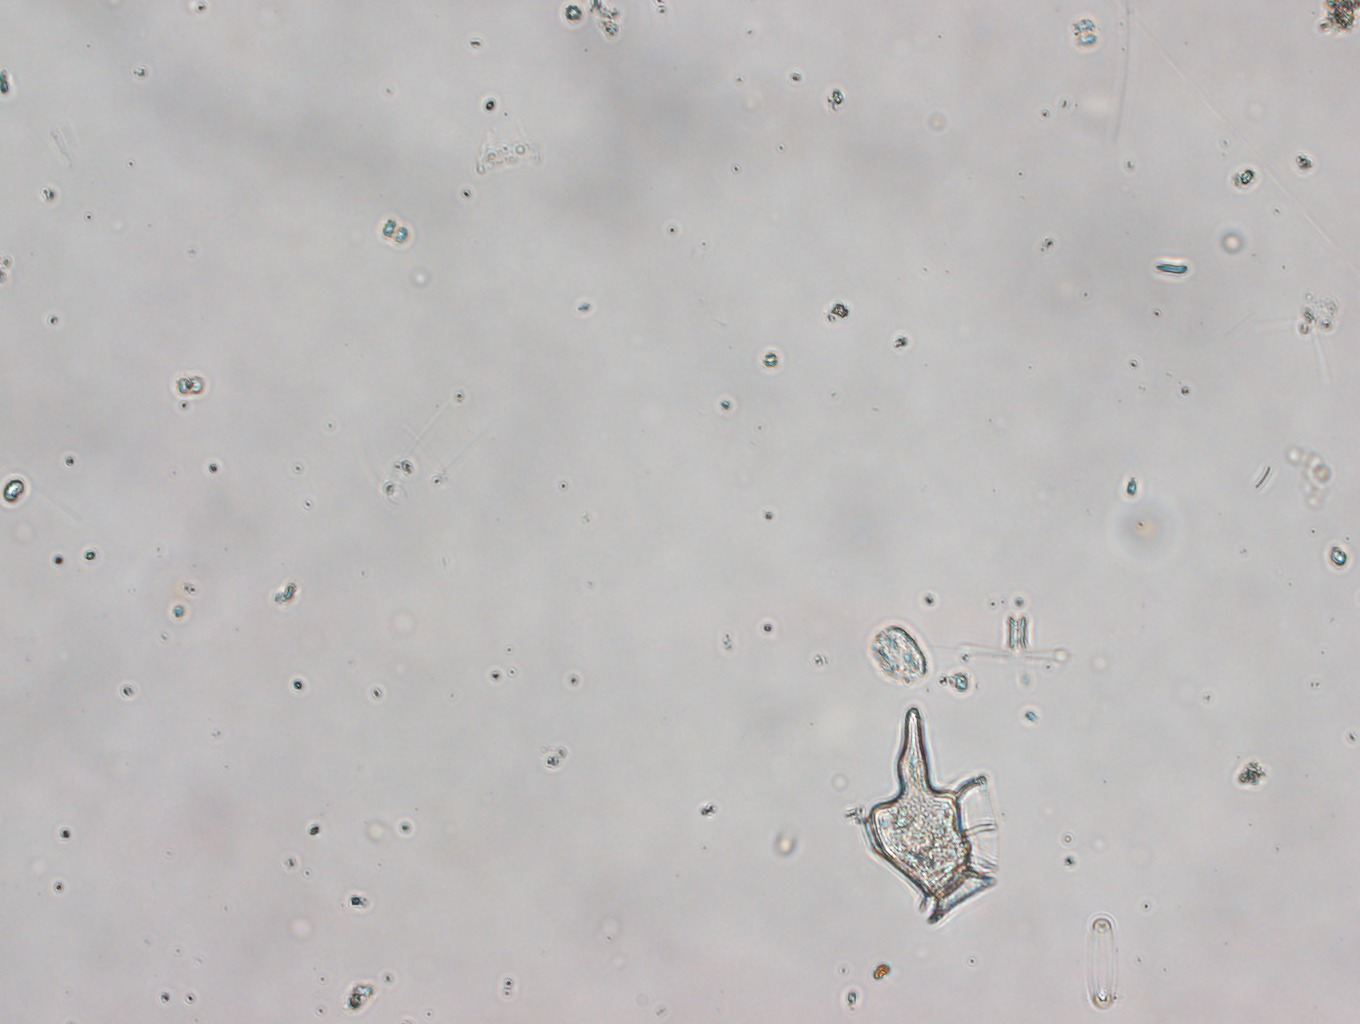dinophysis caudata: (864, 706, 1001, 923)
